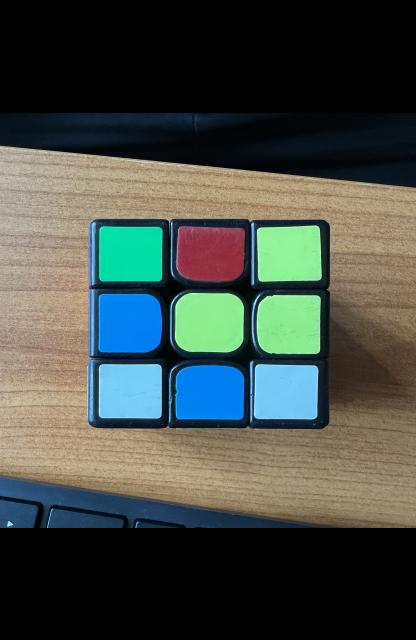Blue: (176, 364, 244, 419), (98, 293, 162, 351)
Green: (99, 226, 163, 281)
Red: (177, 225, 245, 281)
White: (254, 363, 319, 419), (98, 363, 162, 418)
Yellow: (174, 292, 244, 351), (257, 294, 320, 352), (257, 225, 322, 281)
